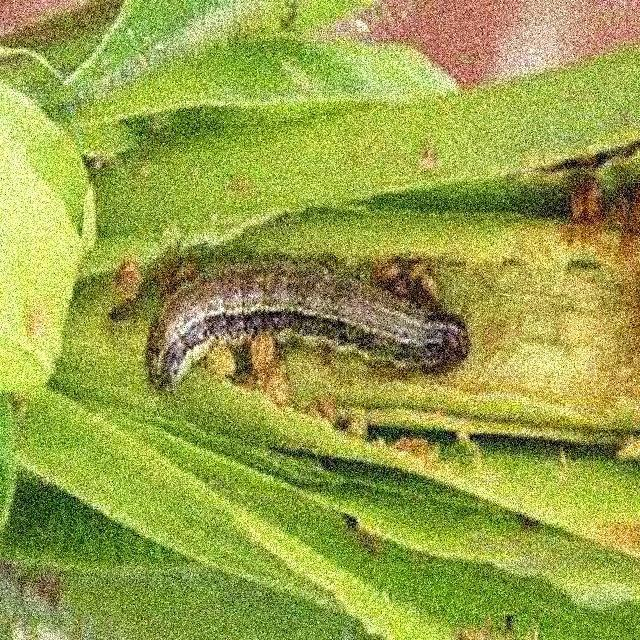gusano_cogollero: (142, 252, 474, 398)
